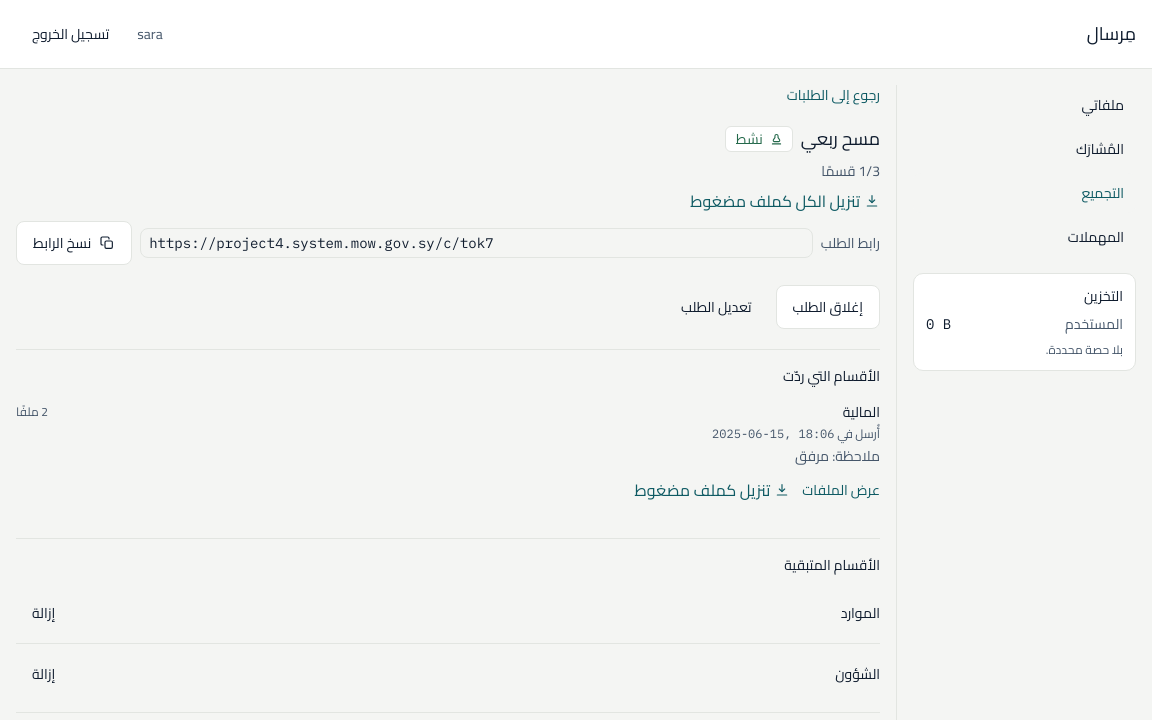
CollectionDetail — roster + lifecycle (Collections Phase 3 / Task 5) › removing a department the server reports as answered shows the removeBlocked toast
Click the button "إزالة" in the row of "الموارد": (44, 613) [16,591,71,635]
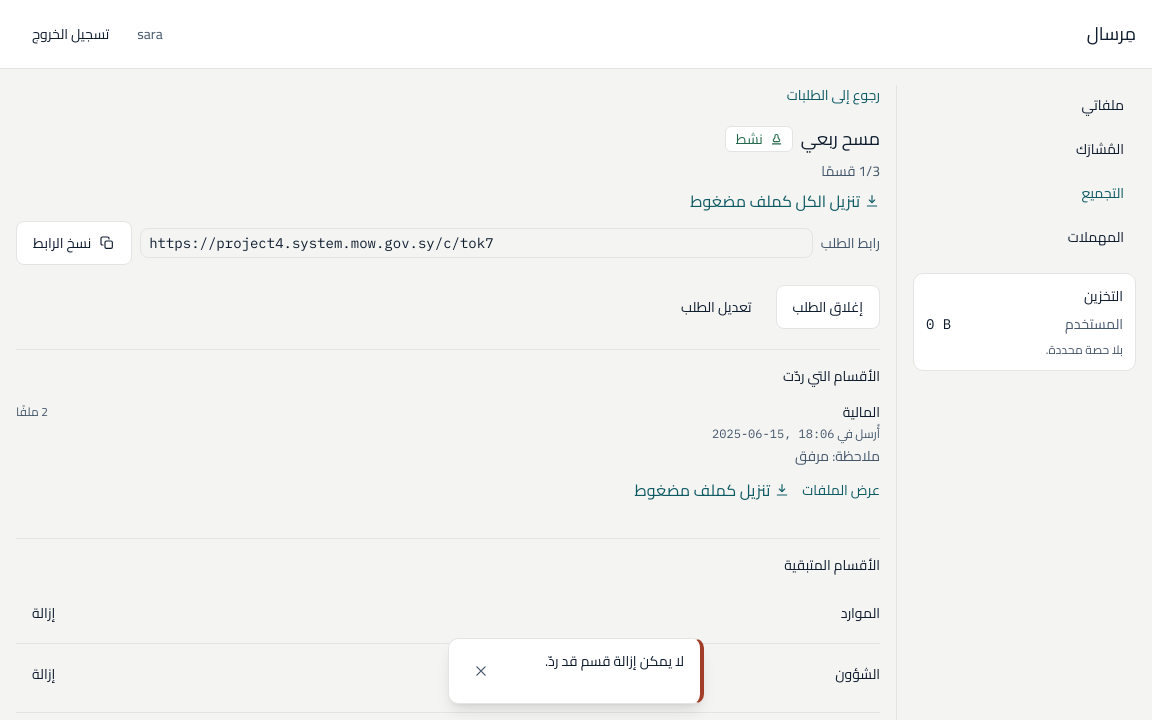
Expected: the text "لا يمكن إزالة قسم قد ردّ." is shown, [545,648,684,674]
